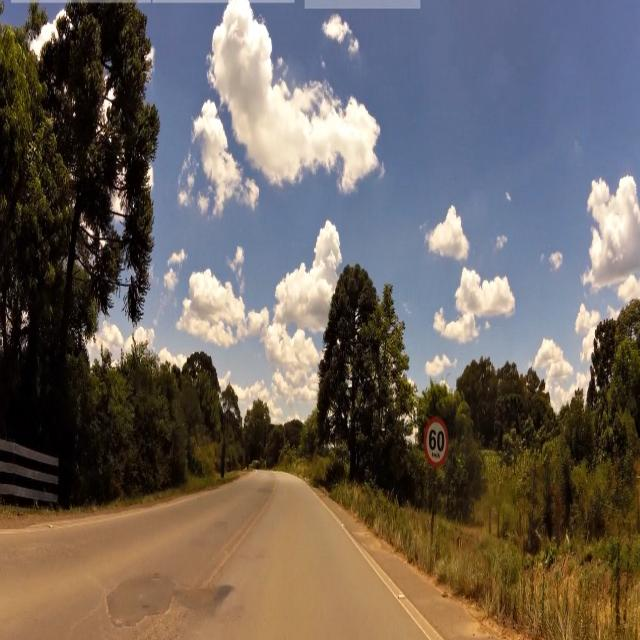R-19: (422, 414, 453, 472)
